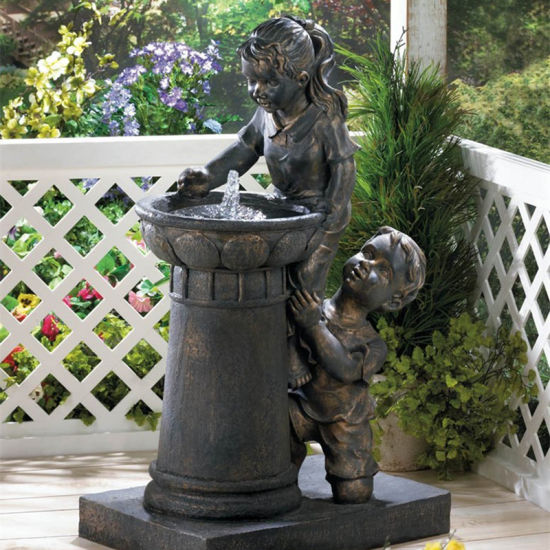person-like: (175, 13, 364, 389), (288, 221, 431, 506)
